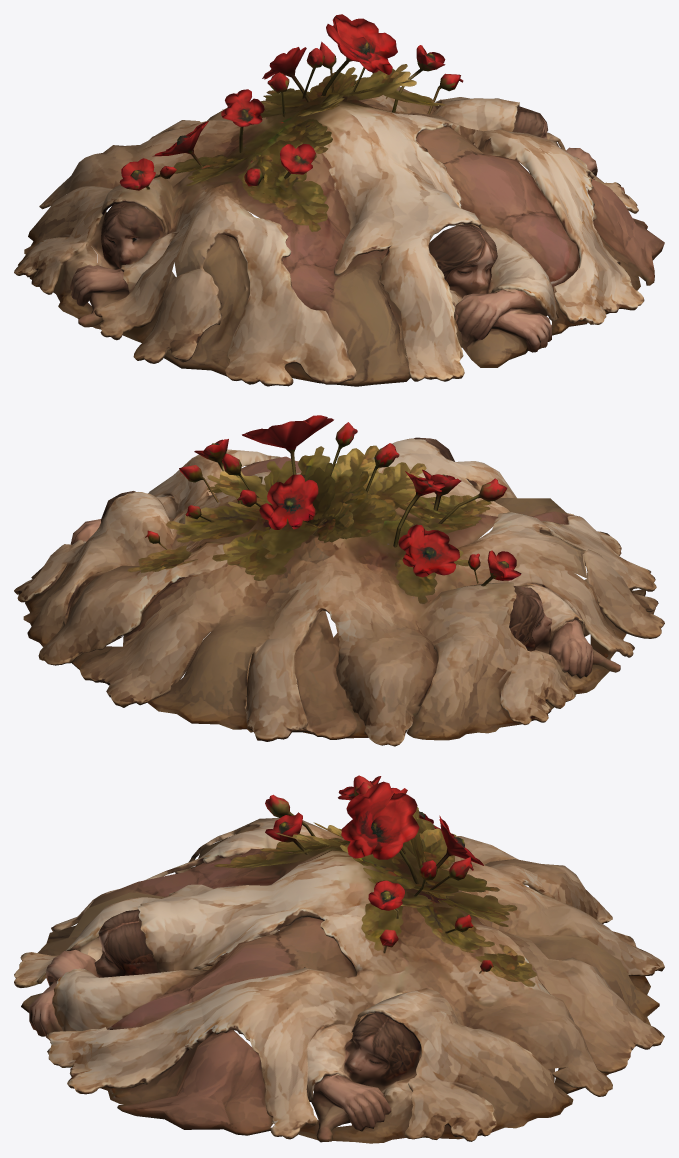
Rendered from P06_poppy_mound.glb.
3 views of the same model, one above another, from view 1: azimuth 30°, elevation 25°; view 2: azimuth 150°, elevation 25°; view 3: azimuth 270°, elevation 25° (orthographic). The views are drawn at different scales.
Visible parts, largest first — view 1: tripo_6dff3098_b6bf_45bb_aa7f_09202139a41b; view 2: tripo_6dff3098_b6bf_45bb_aa7f_09202139a41b; view 3: tripo_6dff3098_b6bf_45bb_aa7f_09202139a41b.
Part boxes in pixels (x1=…): tripo_6dff3098_b6bf_45bb_aa7f_09202139a41b: x1=14, y1=14, x2=664, y2=386; tripo_6dff3098_b6bf_45bb_aa7f_09202139a41b: x1=14, y1=415, x2=664, y2=746; tripo_6dff3098_b6bf_45bb_aa7f_09202139a41b: x1=14, y1=775, x2=664, y2=1143.
Size of the model in its own units: 0.9995 by 0.3774 by 0.9829.
1 material, 1 textured.
